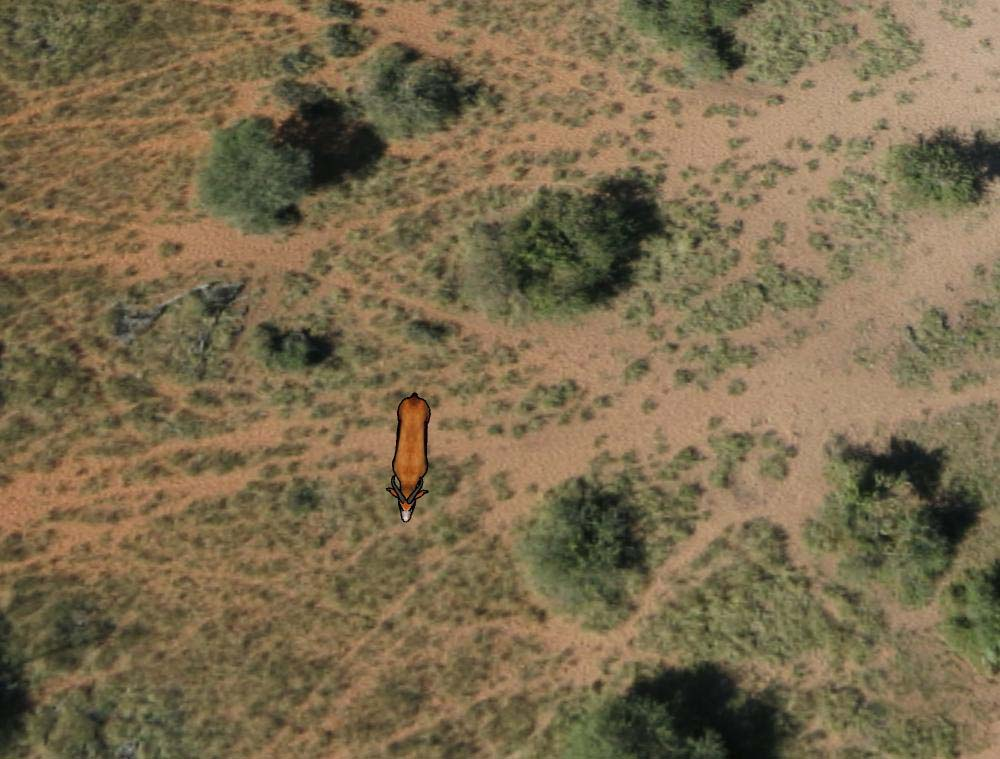springbok: (386, 390, 439, 523)
